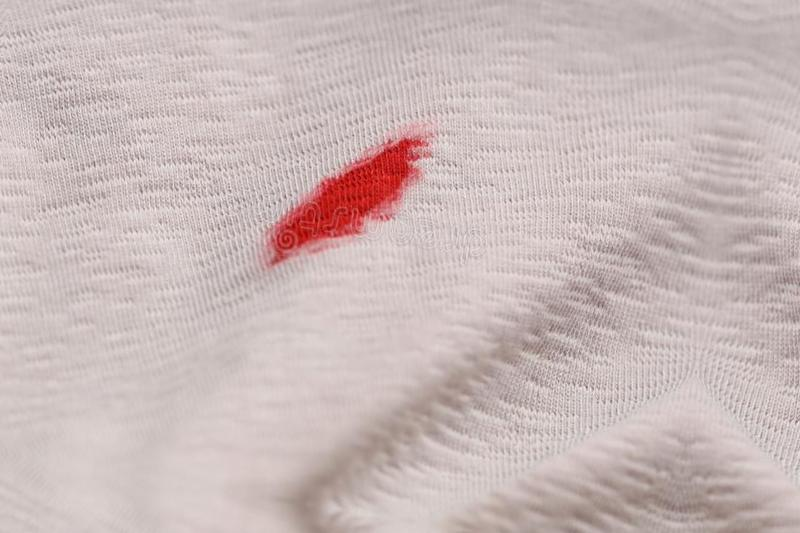stain: (262, 123, 437, 268)
